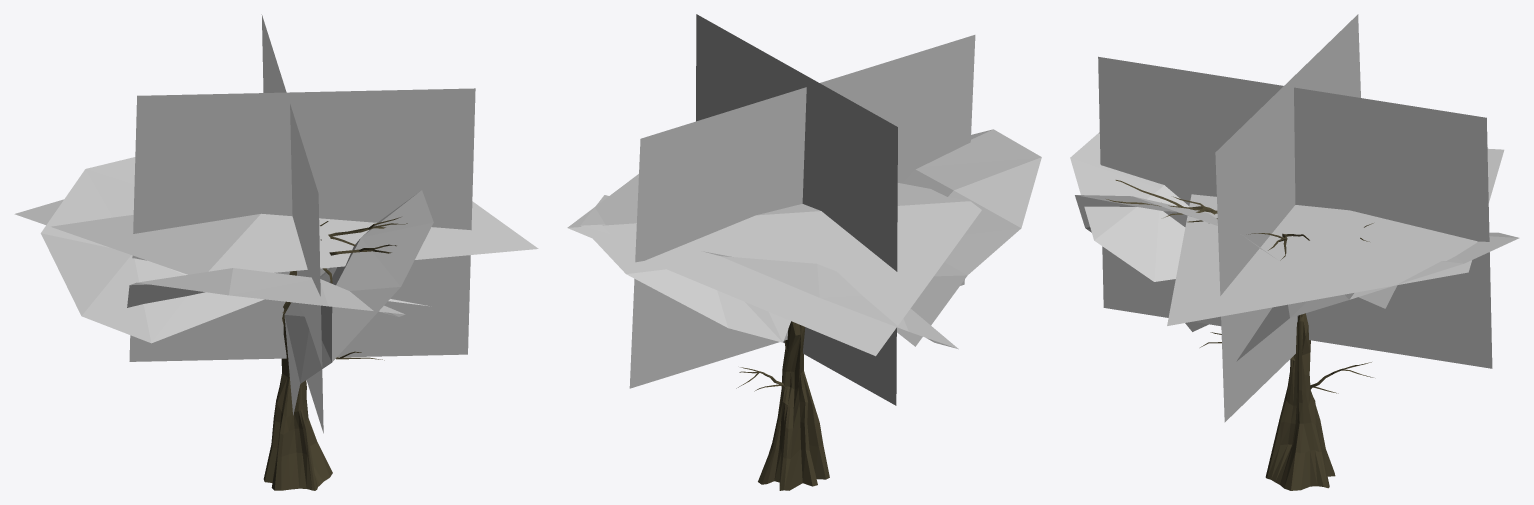
The model's file is ADDON_PLANTS_JUNGLETREE_01_1845P.OBJ.
3 views of the same model, side by side, from view 1: azimuth 30°, elevation 25°; view 2: azimuth 150°, elevation 25°; view 3: azimuth 270°, elevation 25° (orthographic). The views are drawn at different scales.
Parts seen in each view (by area): view 1: ADDON_PLANTS_JUNGLETREE_01_1845P; view 2: ADDON_PLANTS_JUNGLETREE_01_1845P; view 3: ADDON_PLANTS_JUNGLETREE_01_1845P.
Boxes of the visible parts, bbox=[...] form: ADDON_PLANTS_JUNGLETREE_01_1845P: bbox=[14, 14, 538, 490]; ADDON_PLANTS_JUNGLETREE_01_1845P: bbox=[567, 14, 1041, 490]; ADDON_PLANTS_JUNGLETREE_01_1845P: bbox=[1070, 14, 1519, 490].
Bounding box in the file's own units: 44.76 × 46.18 × 46.86.
